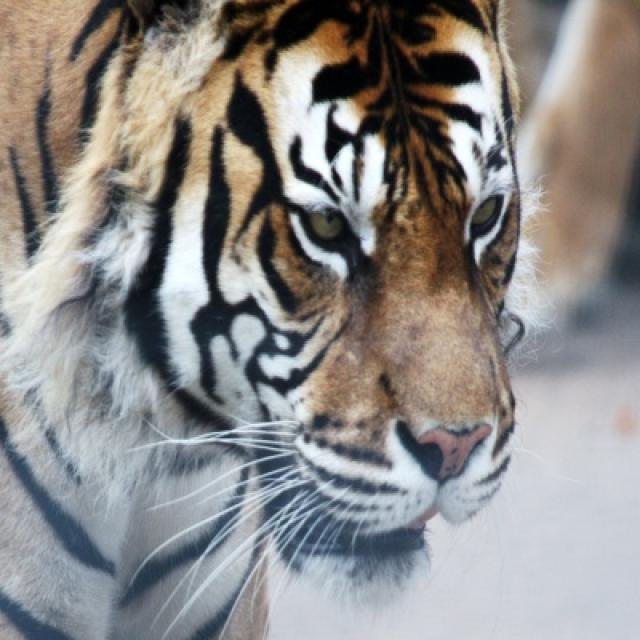Tiger: (11, 0, 529, 613)
